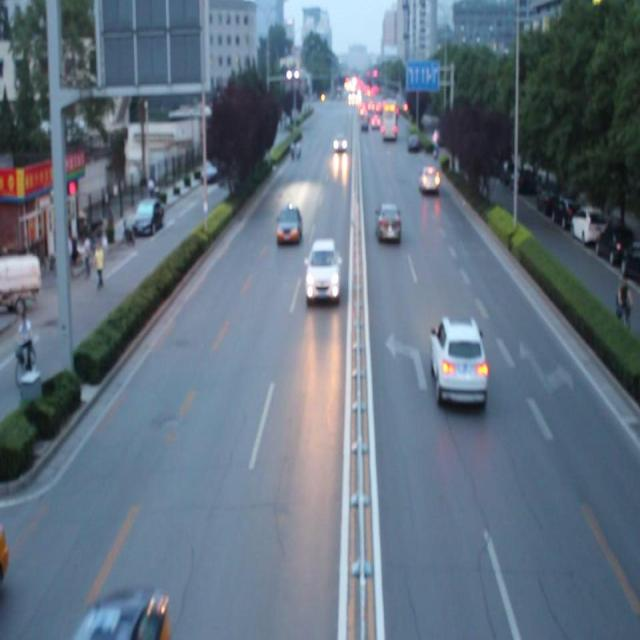car: (430, 316, 486, 406), (77, 591, 172, 640), (306, 238, 339, 302), (375, 201, 402, 246), (276, 205, 301, 245)
